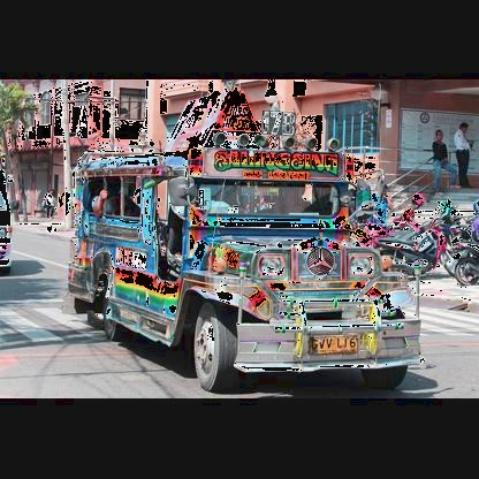jeepney: (64, 133, 433, 399)
